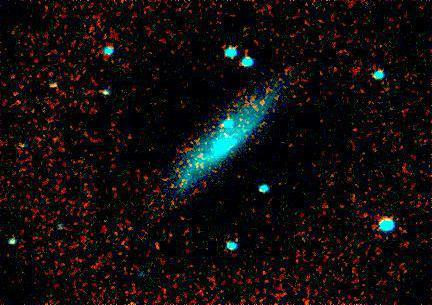star: (244, 91, 274, 121)
